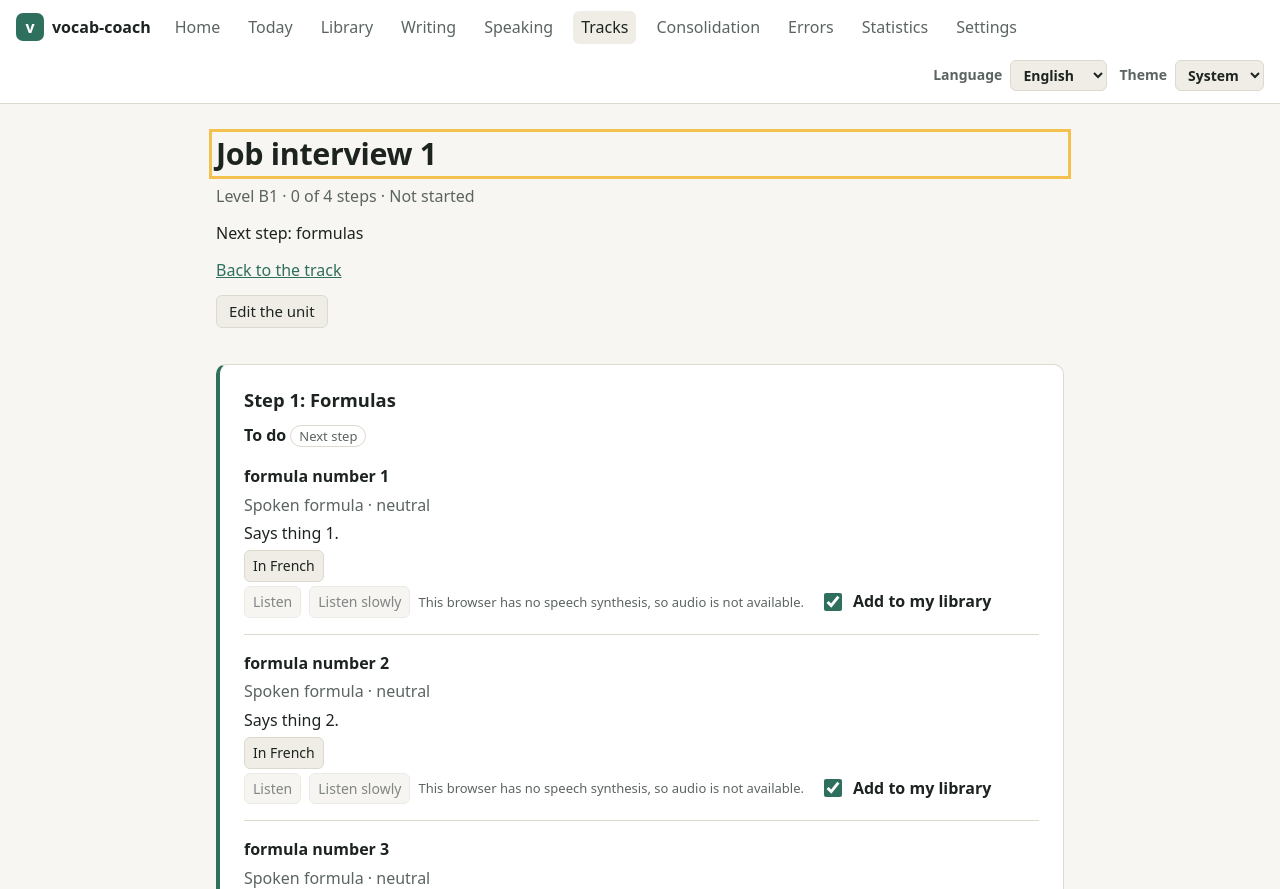
Test: The unit editor › checks the limits itself, says where, and sends nothing
Click the button "Edit the unit" at (272, 311), box 216,295 -> 328,328
(page scrolled)
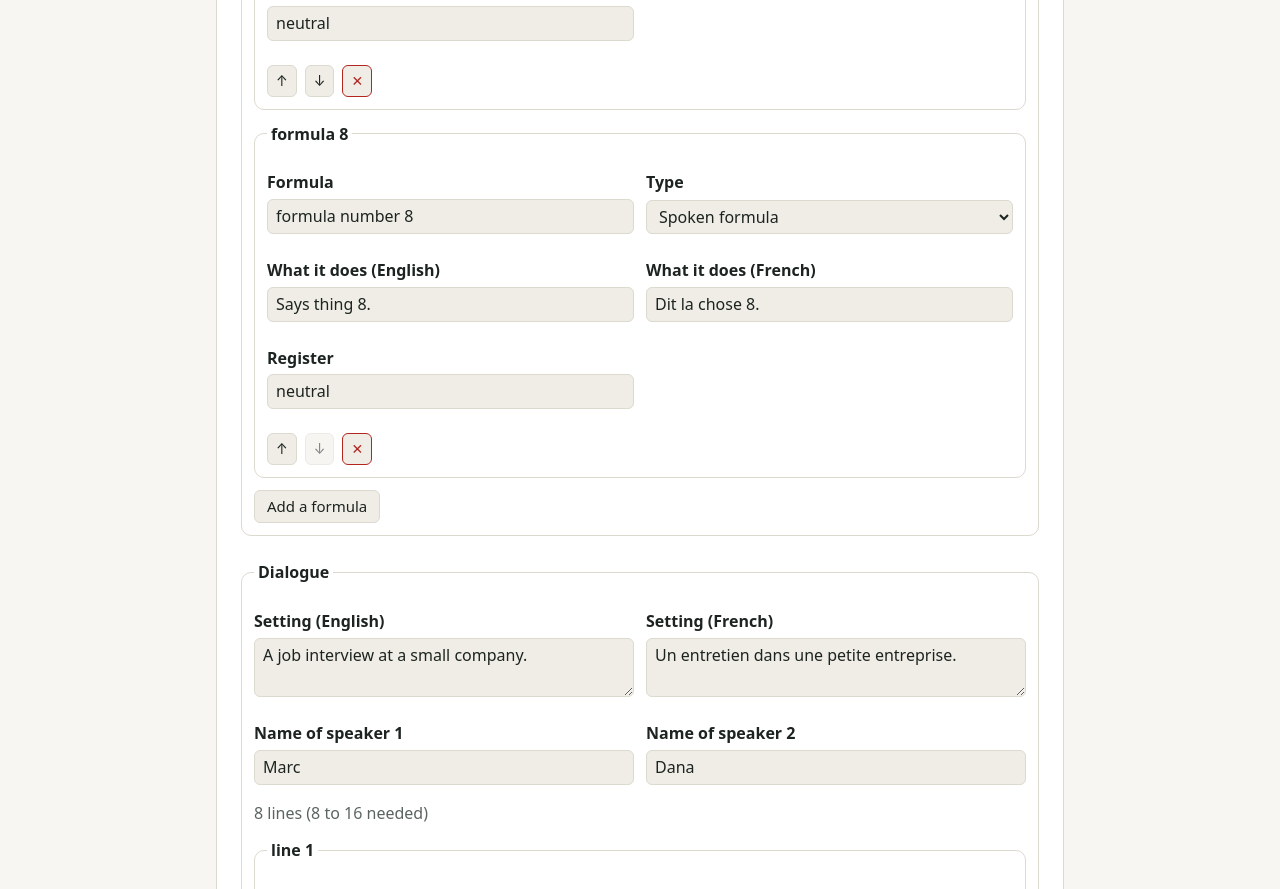
Click the button named "Remove formula 8" at (357, 449), box 342,433 -> 372,465
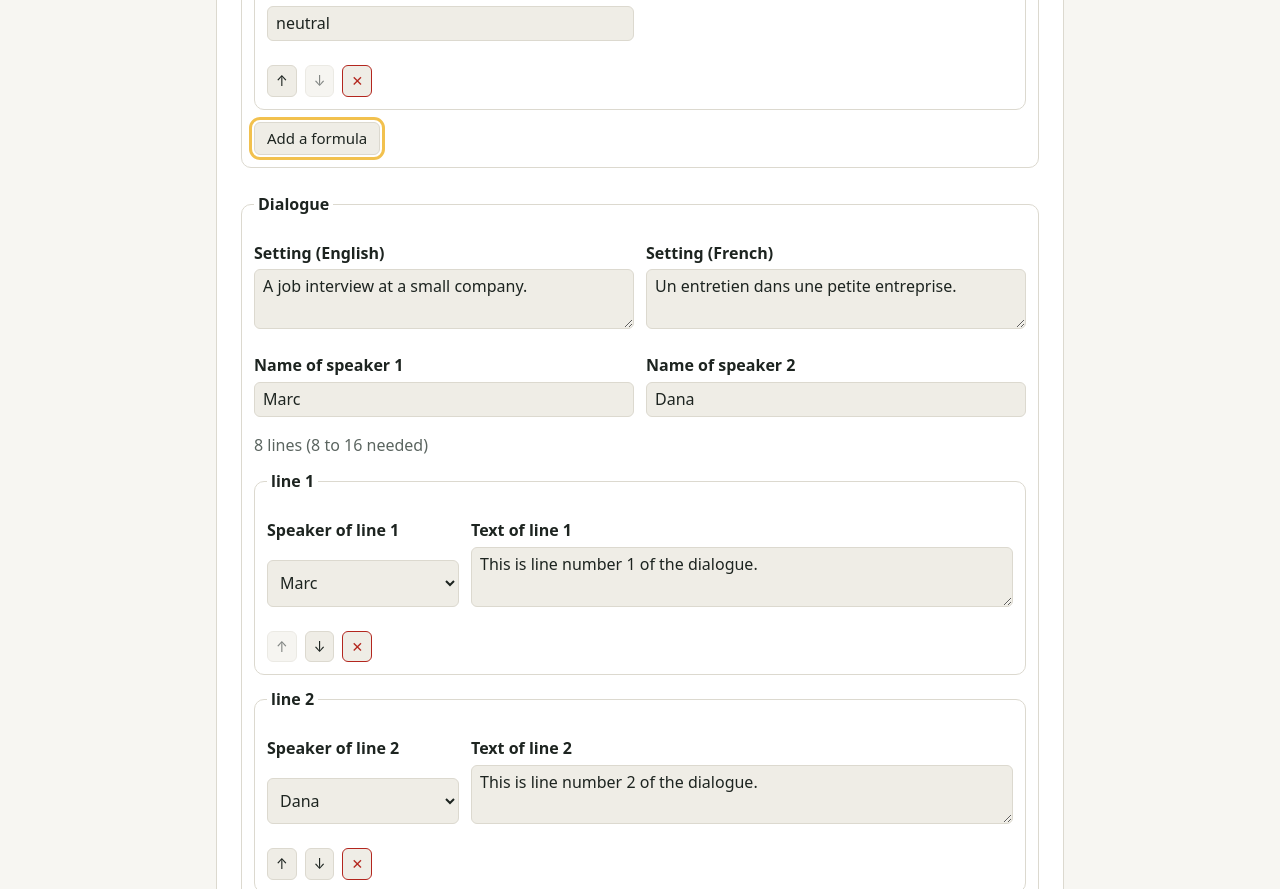
Clear the text box labelled "Text of line 1" at (742, 577), box 471,547 -> 1013,607
(page scrolled)
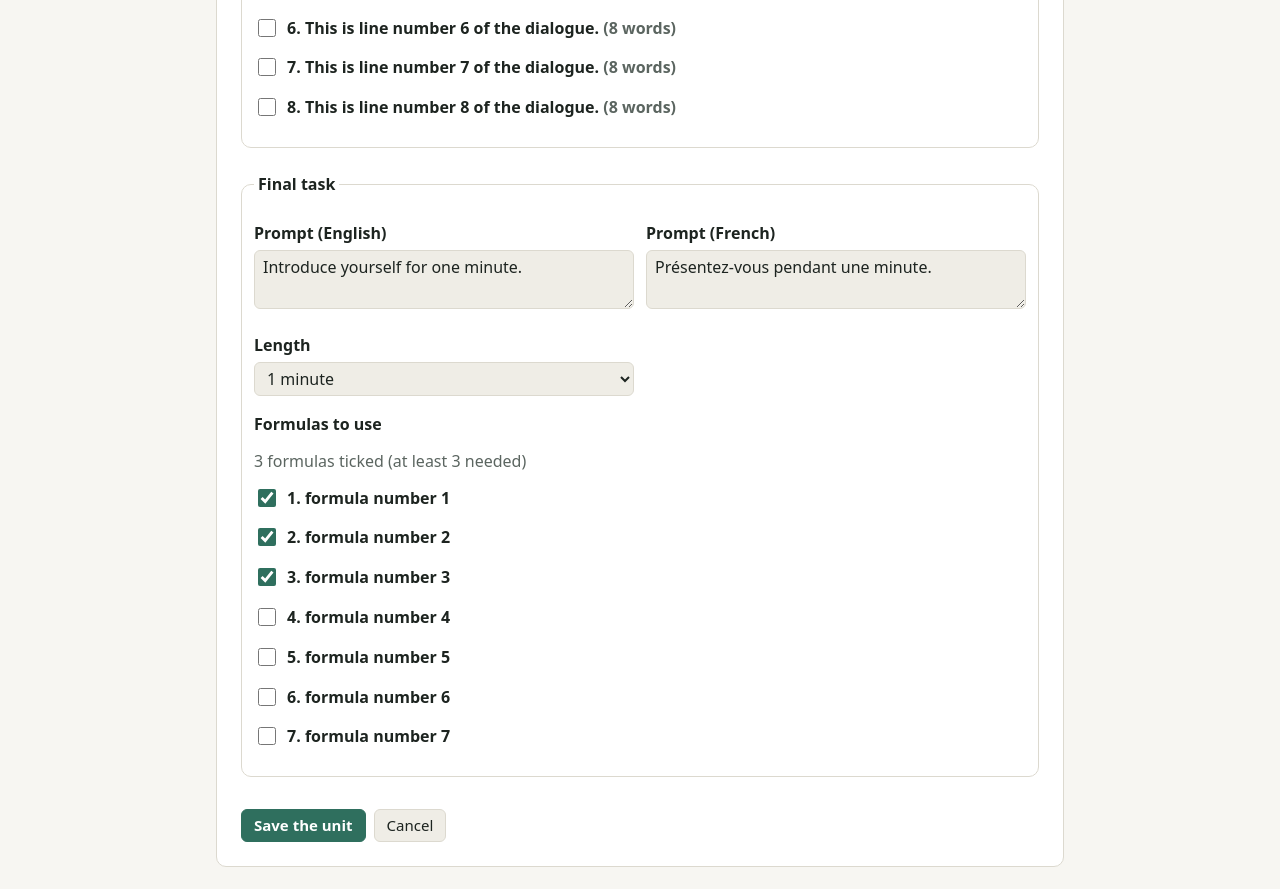
Click the button "Save the unit" at (303, 826), box 241,809 -> 366,842
(page scrolled)
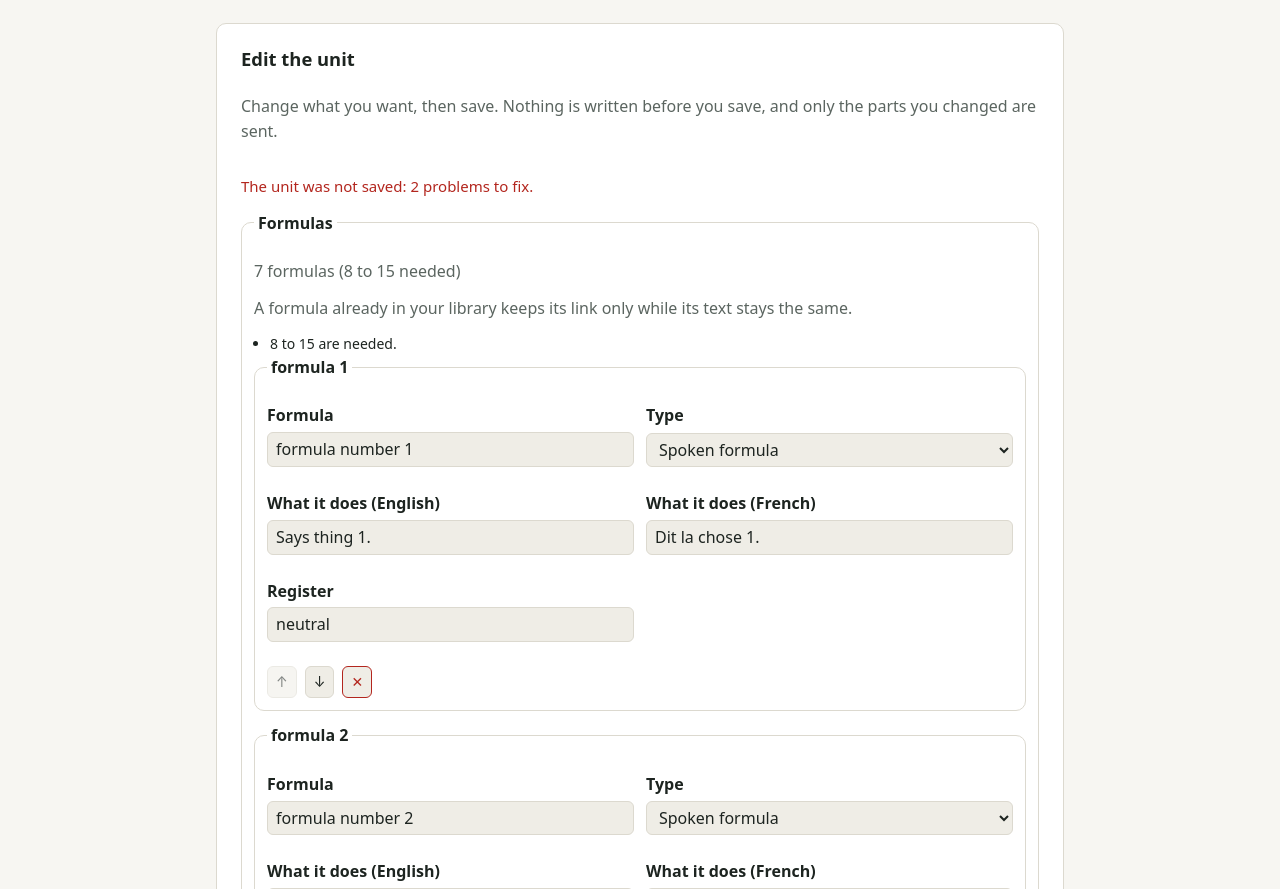
Expected: the message reads "The unit was not saved: 2 problems to fix.", 241,176 -> 533,196
Expected: the list item "8 to 15 are needed." is shown, 270,334 -> 397,353
